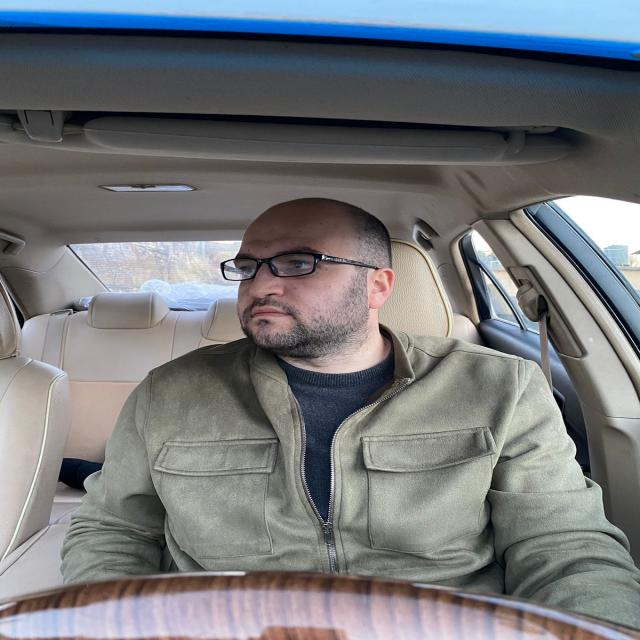LeftRight: (214, 196, 412, 369)
